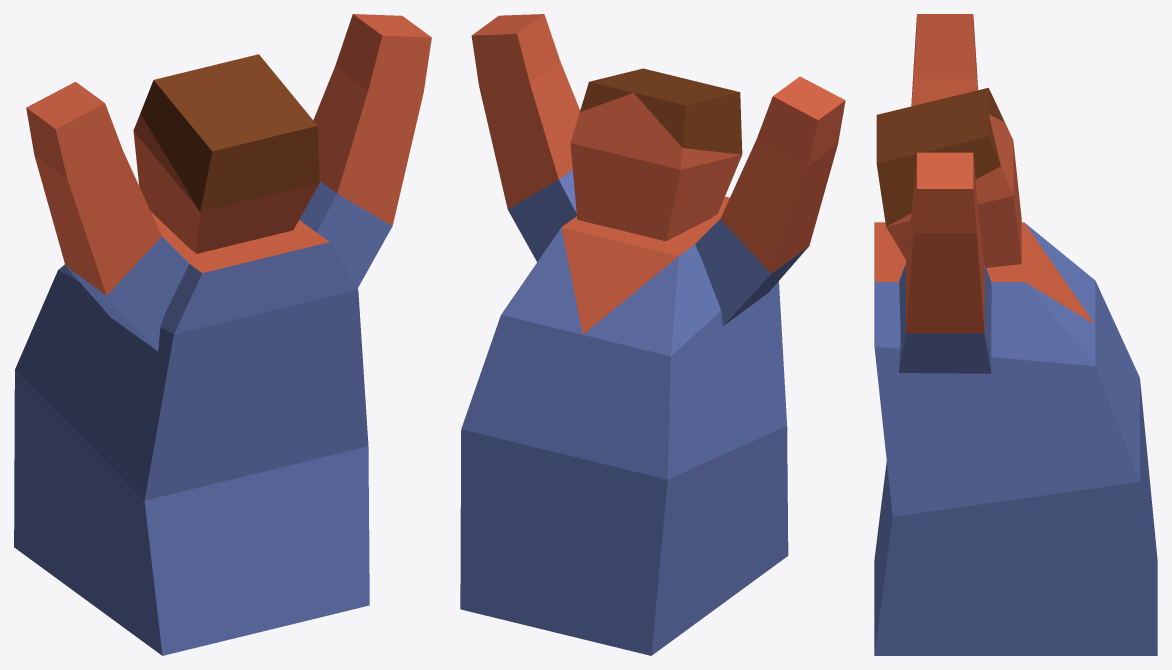
File: spectator_01.fbx
3 renders of one model, left to right at view 1: azimuth 30°, elevation 25°; view 2: azimuth 150°, elevation 25°; view 3: azimuth 270°, elevation 25°, orthographic. The views are drawn at different scales.
Visible parts, largest first — view 1: spectator_01; view 2: spectator_01; view 3: spectator_01.
Part boxes in pixels (bbox=[...]): spectator_01: bbox=[14, 14, 431, 655]; spectator_01: bbox=[460, 14, 845, 655]; spectator_01: bbox=[874, 14, 1157, 655].
Bounding box in the file's own units: 184 × 254 × 125.
